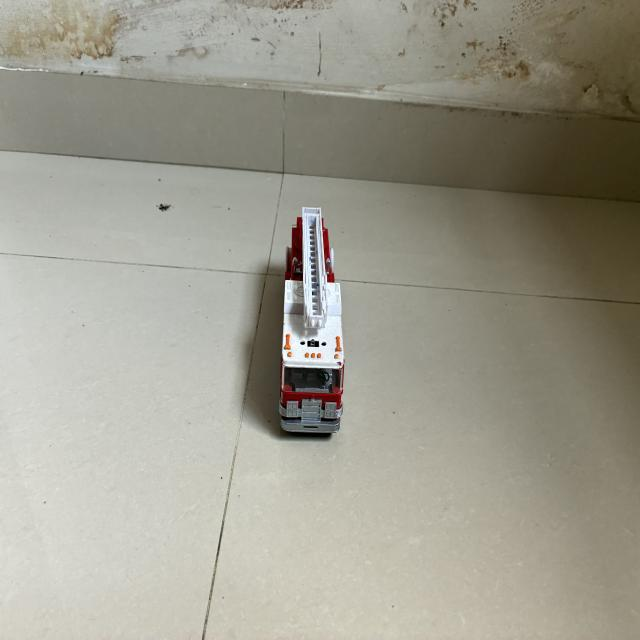fire-truck: (269, 189, 345, 369), (272, 330, 349, 444), (315, 332, 337, 362)
